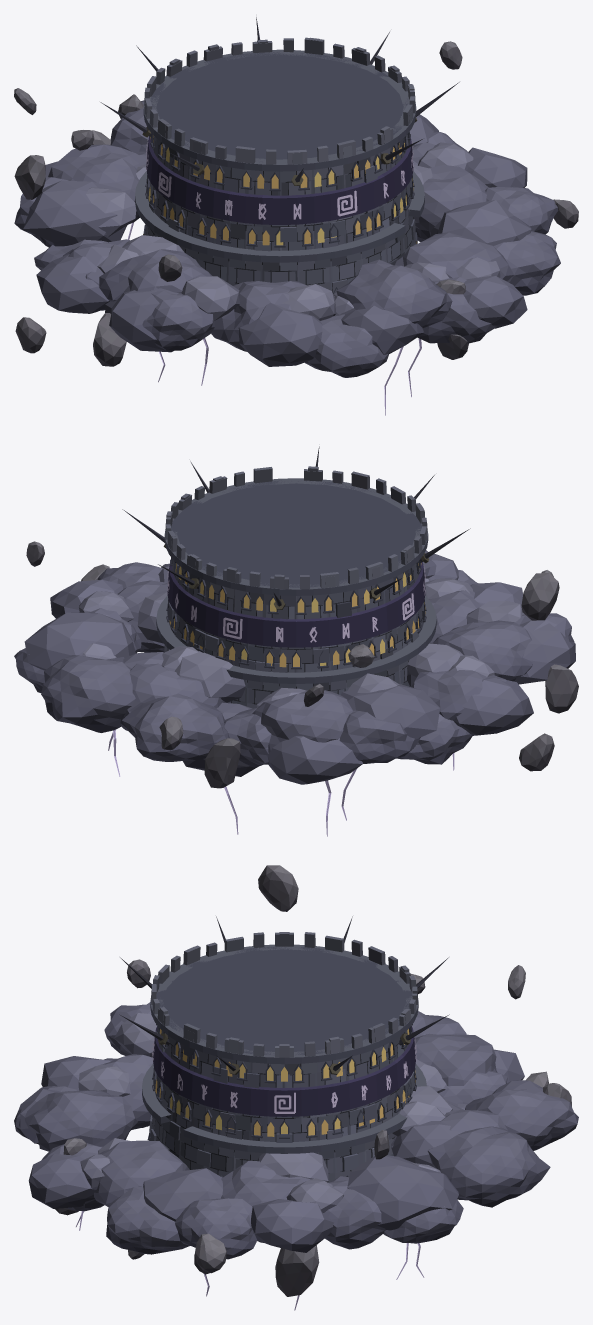
Rendered from WorldTower_3_Storm.fbx.
3 renders of one model, top to bottom at view 1: azimuth 30°, elevation 25°; view 2: azimuth 150°, elevation 25°; view 3: azimuth 270°, elevation 25°, orthographic. The views are drawn at different scales.
Visible parts, largest first — view 1: Body_Near, Ring_Near, Body_Far, Ring_Far, Rocks_Far, Rocks_Near; view 2: Ring_Near, Body_Near, Body_Far, Ring_Far, Rocks_Far, Rocks_Near; view 3: Ring_Near, Body_Near, Body_Far, Ring_Far, Rocks_Far, Rocks_Near.
Boxes of the visible parts, x1,y1,x2,y2 form: Body_Near: (135,37,424,293); Ring_Near: (14,100,560,415); Body_Far: (100,17,459,290); Ring_Far: (23,114,531,366); Rocks_Far: (14,155,578,366); Rocks_Near: (14,41,468,359); Ring_Near: (14,550,574,834); Body_Near: (156,466,436,708); Body_Far: (122,446,470,706); Ring_Far: (24,553,575,836); Rocks_Far: (81,564,578,771); Rocks_Near: (26,541,553,788); Ring_Near: (14,1004,578,1310); Body_Near: (142,932,426,1182); Body_Far: (119,916,449,1178); Ring_Far: (19,1002,524,1296); Rocks_Far: (63,865,319,1296); Rocks_Near: (55,959,571,1274).
Size of the model in its own units: 200 by 90.21 by 190.
